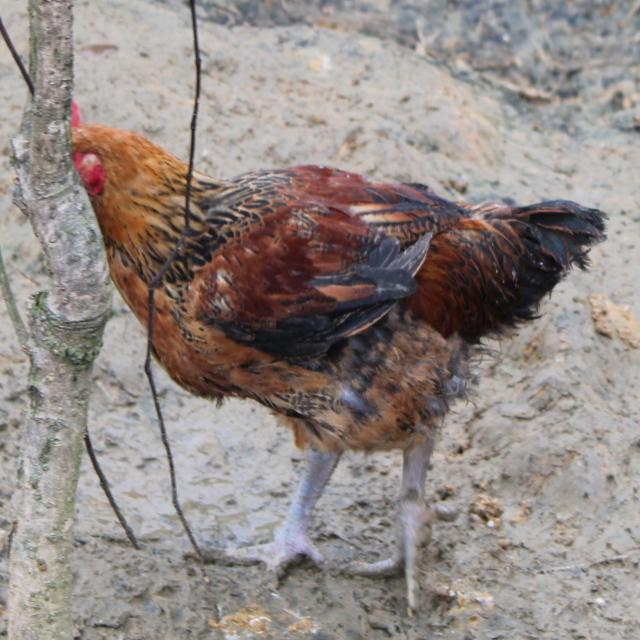hen: (92, 102, 611, 632), (63, 96, 229, 330)
